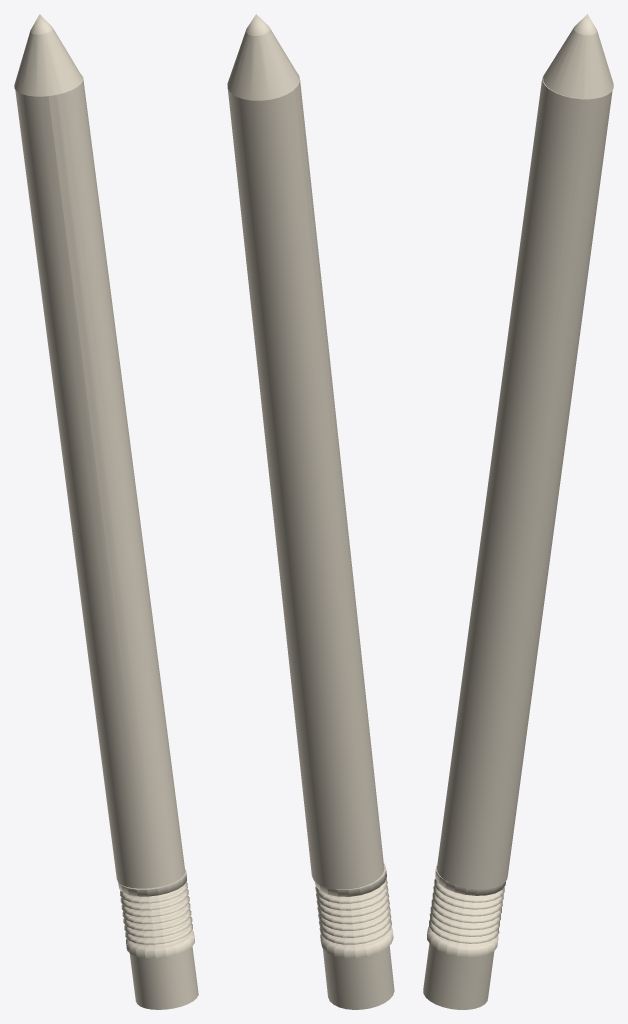
File: pen1.fbx
The picture shows the model from 3 angles, left to right: view 1: azimuth 90°, elevation 25°; view 2: azimuth 150°, elevation 25°; view 3: azimuth 270°, elevation 25°; orthographic projection. The views are drawn at different scales.
Parts seen in each view (by area): view 1: pen1; view 2: pen1; view 3: pen1.
Boxes of the visible parts, x1,y1,x2,y2 form: pen1: [14, 14, 198, 1009]; pen1: [227, 14, 394, 1009]; pen1: [423, 14, 613, 1009].
Size of the model in its own units: 9.38 by 94.19 by 16.24.
